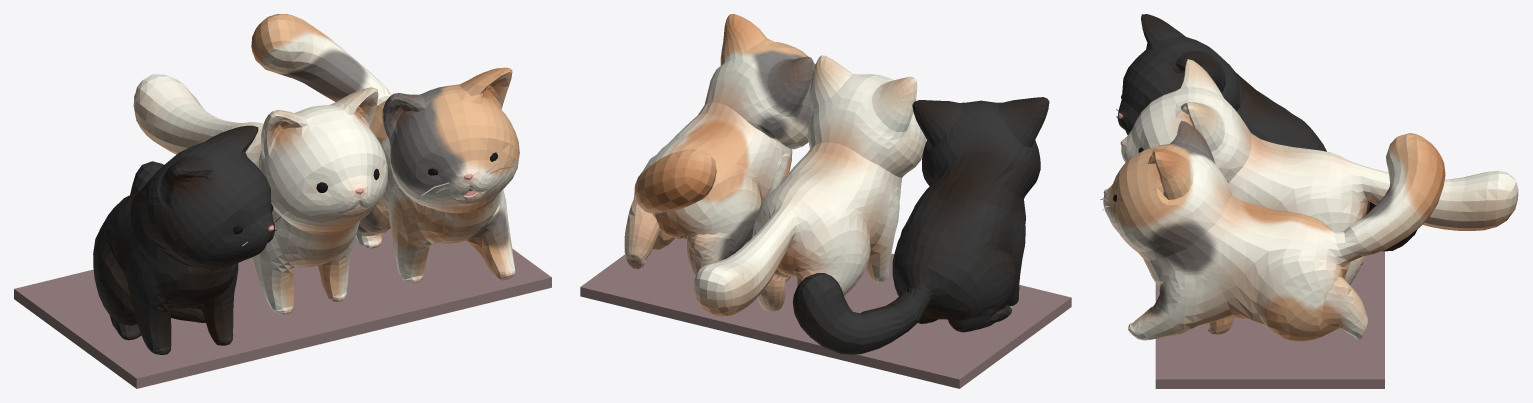
3 views of the same model, side by side, from view 1: azimuth 30°, elevation 25°; view 2: azimuth 150°, elevation 25°; view 3: azimuth 270°, elevation 25° (orthographic). The views are drawn at different scales.
Parts seen in each view (by area): view 1: entity_1; view 2: entity_1; view 3: entity_1.
Boxes of the visible parts, x1,y1,x2,y2 form: entity_1: (14, 14, 551, 388); entity_1: (580, 14, 1071, 388); entity_1: (1100, 14, 1518, 388).
Bounding box in the file's own units: 0.5 × 0.2651 × 0.4664.
4 materials, 3 textured.
